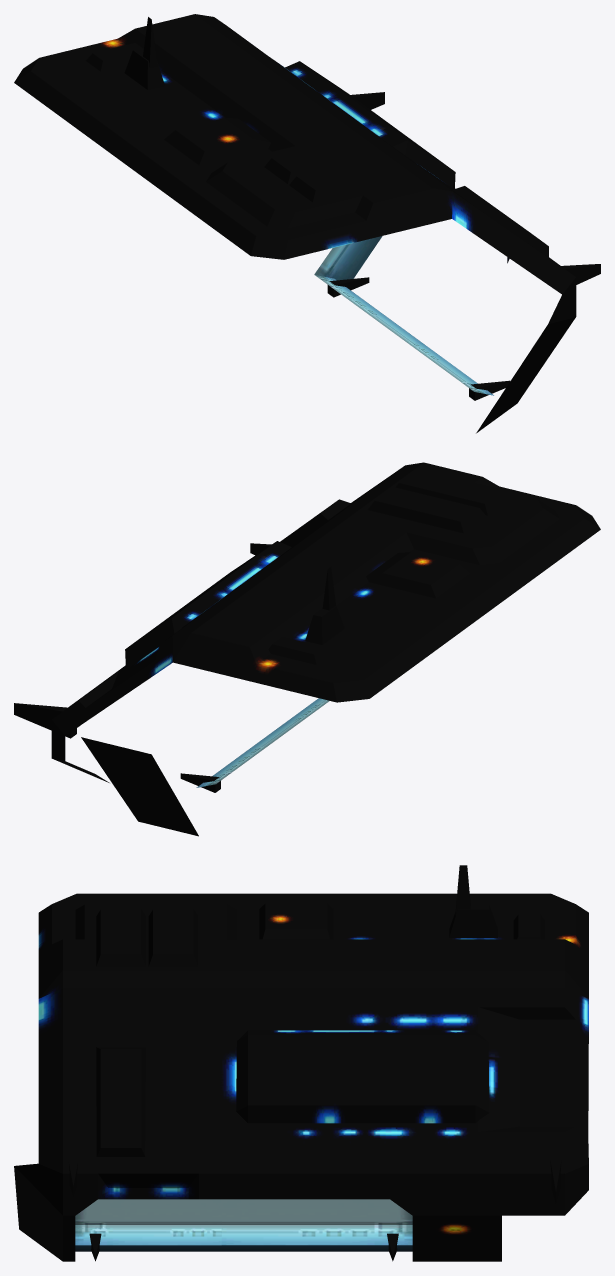
Rendered from hangar_hgn_explorer_01_enhanced_01_left.glb.
The picture shows the model from 3 angles, top to bottom: view 1: azimuth 30°, elevation 25°; view 2: azimuth 150°, elevation 25°; view 3: azimuth 270°, elevation 25°; orthographic projection. The views are drawn at different scales.
Parts seen in each view (by area): view 1: hangar_body_LOD0; view 2: hangar_body_LOD0; view 3: hangar_body_LOD0.
Boxes of the visible parts, box(x1,y1,x2,y2) form: hangar_body_LOD0: box(14, 14, 600, 433); hangar_body_LOD0: box(14, 462, 600, 836); hangar_body_LOD0: box(14, 865, 588, 1261).
Bounding box in the file's own units: 1.74 × 1.31 × 2.28.
Materials: 1 (1 with a texture image).
